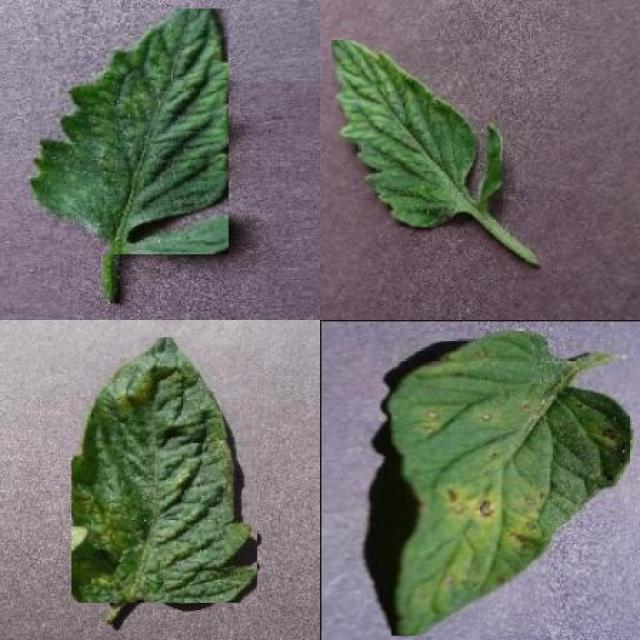Mosaic Virus: (32, 9, 228, 254), (332, 40, 502, 227)
Septoria: (391, 330, 630, 636)
Spider Mites: (72, 337, 257, 603)
